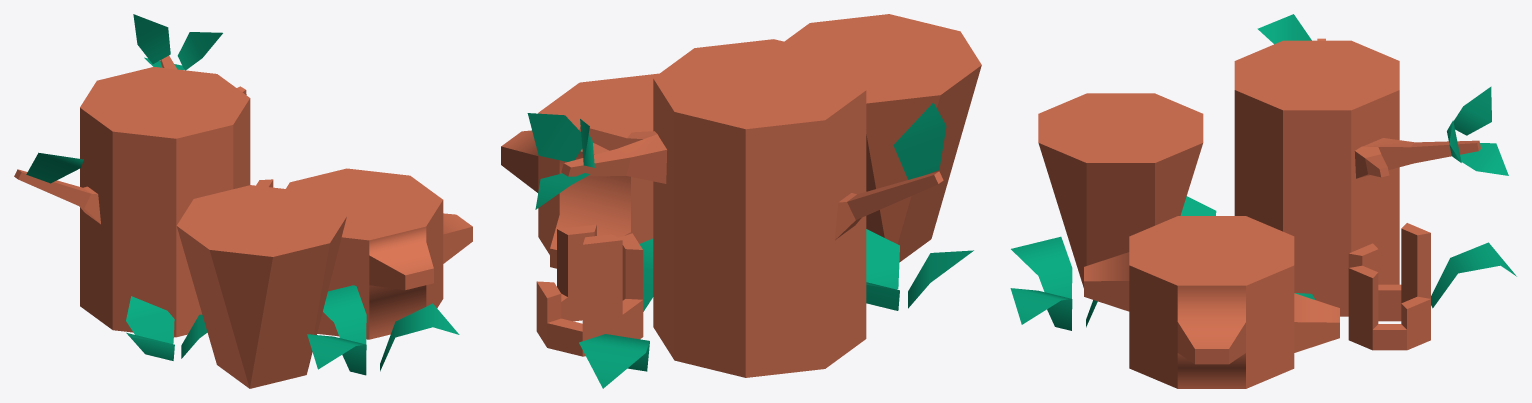
The model's file is Stump.fbx.
3 views of the same model, side by side, from view 1: azimuth 30°, elevation 25°; view 2: azimuth 150°, elevation 25°; view 3: azimuth 270°, elevation 25° (orthographic). The views are drawn at different scales.
Parts seen in each view (by area): view 1: mergedBlocks; view 2: mergedBlocks; view 3: mergedBlocks.
Boxes of the visible parts, <box> form: mergedBlocks: <box>14,14,472,388</box>; mergedBlocks: <box>501,14,981,388</box>; mergedBlocks: <box>1010,14,1516,388</box>.
Size of the model in its own units: 20.86 by 10.77 by 22.26.
